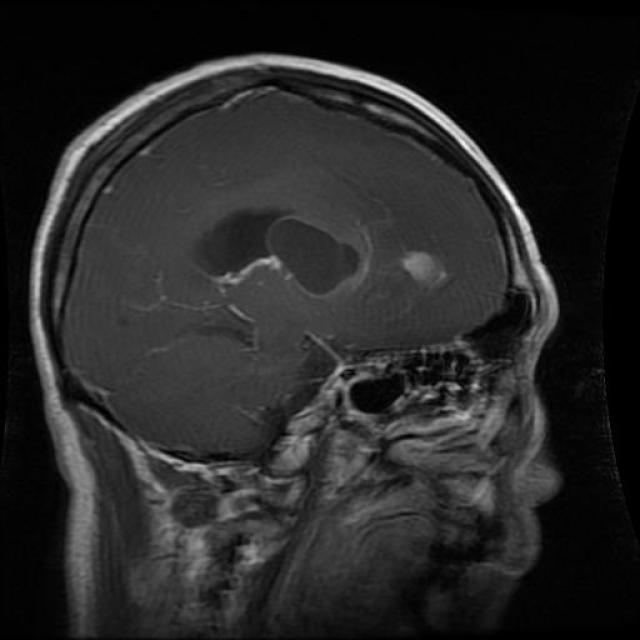glioma: (182, 202, 364, 296)
